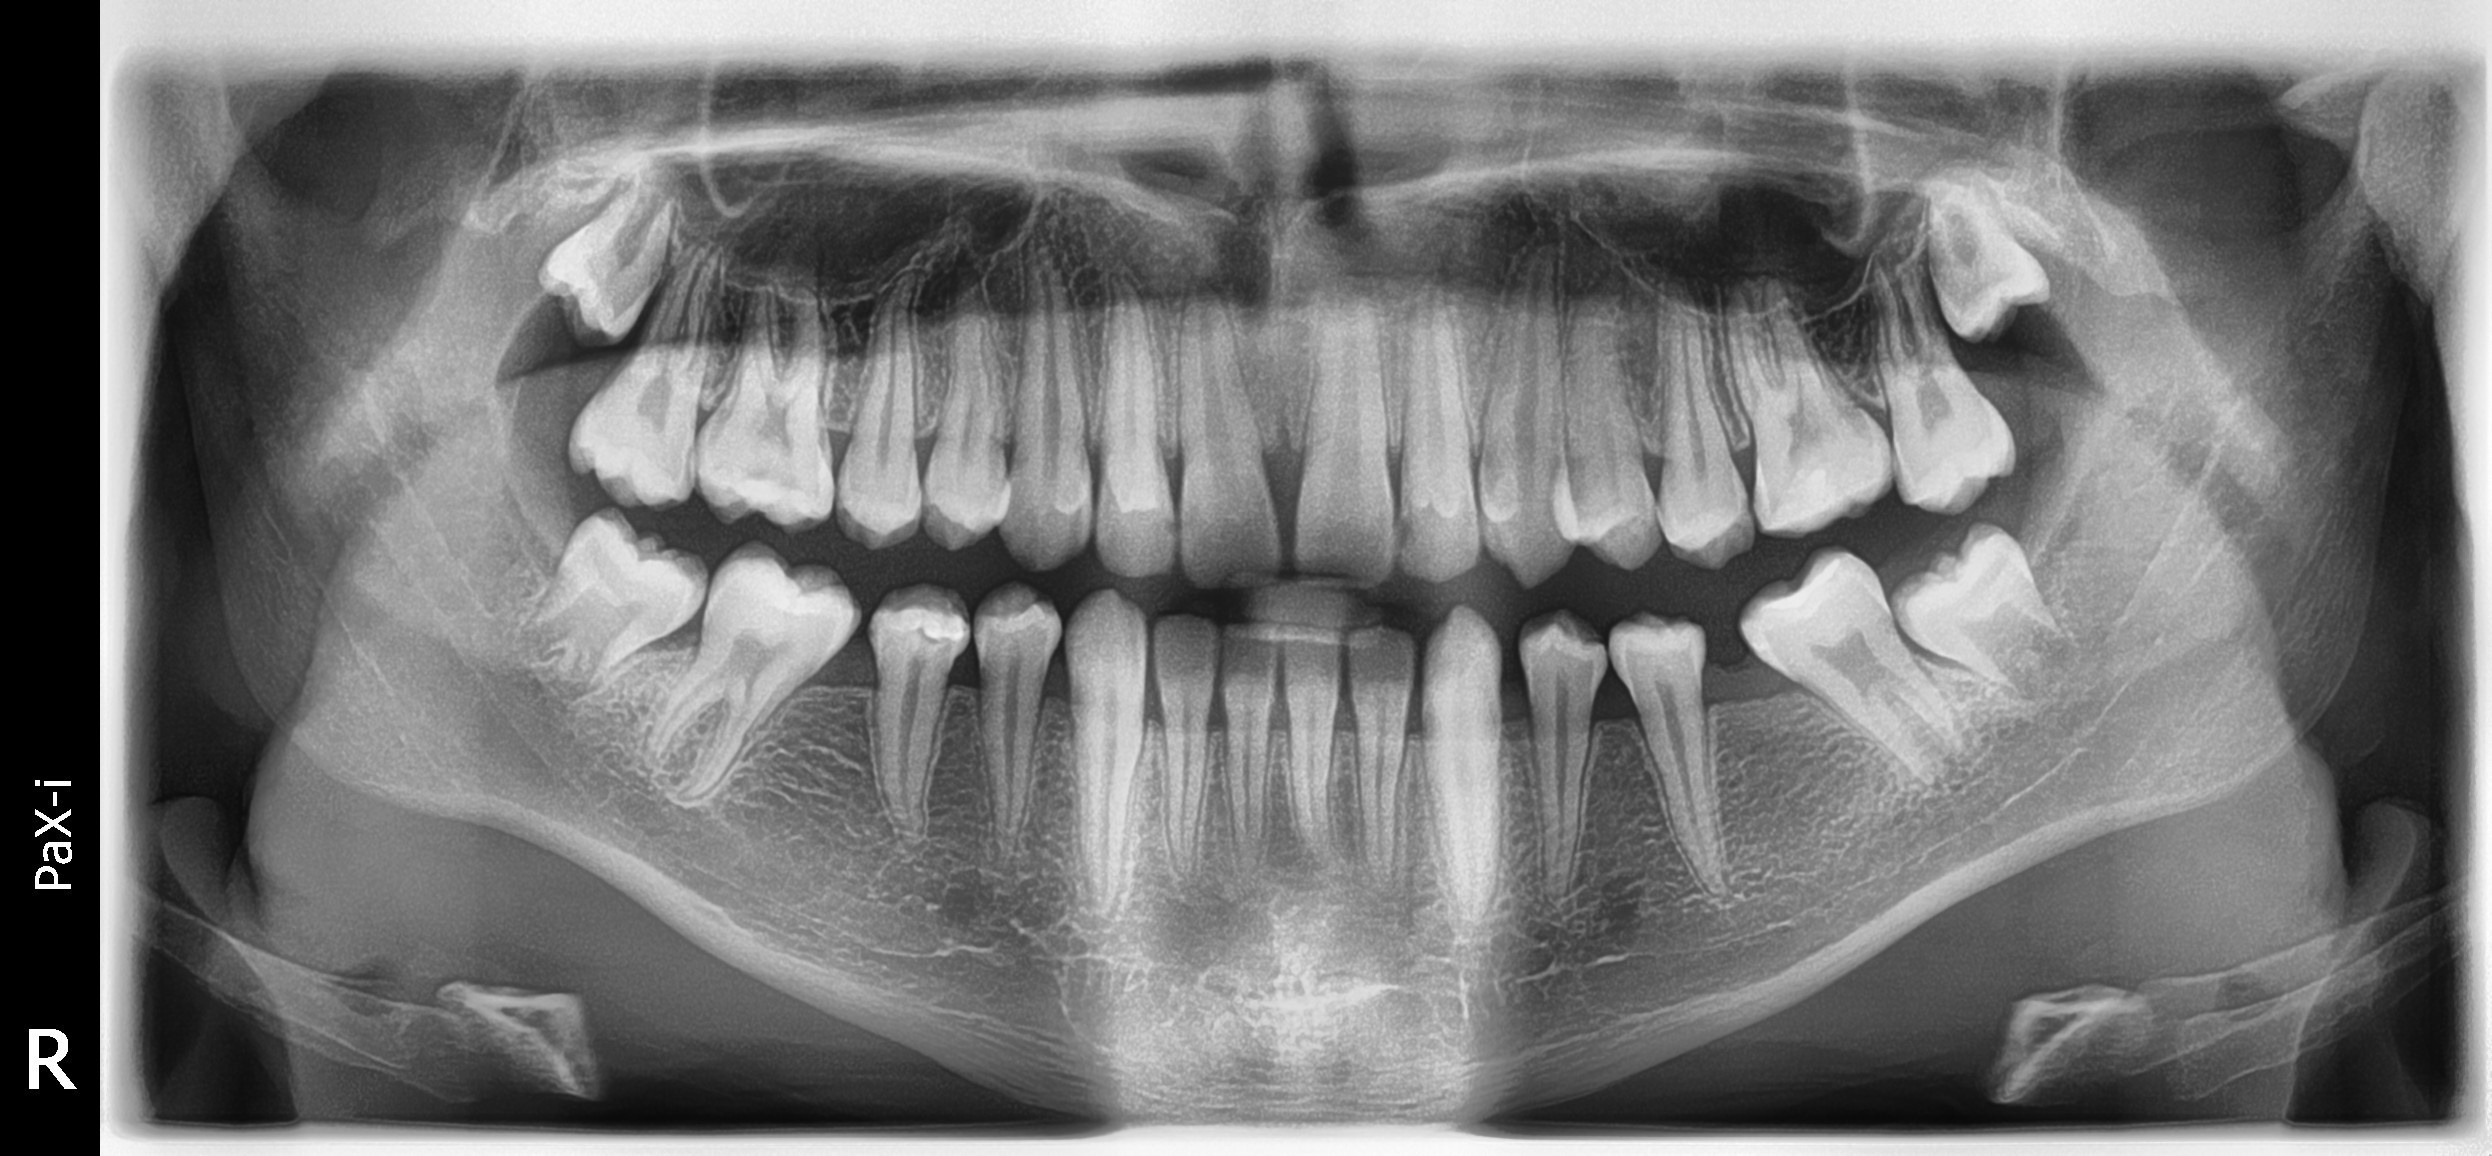CAR: (690, 235, 2111, 781)
IMT: (202, 0, 880, 340)
OBT: (408, 286, 1373, 925)
